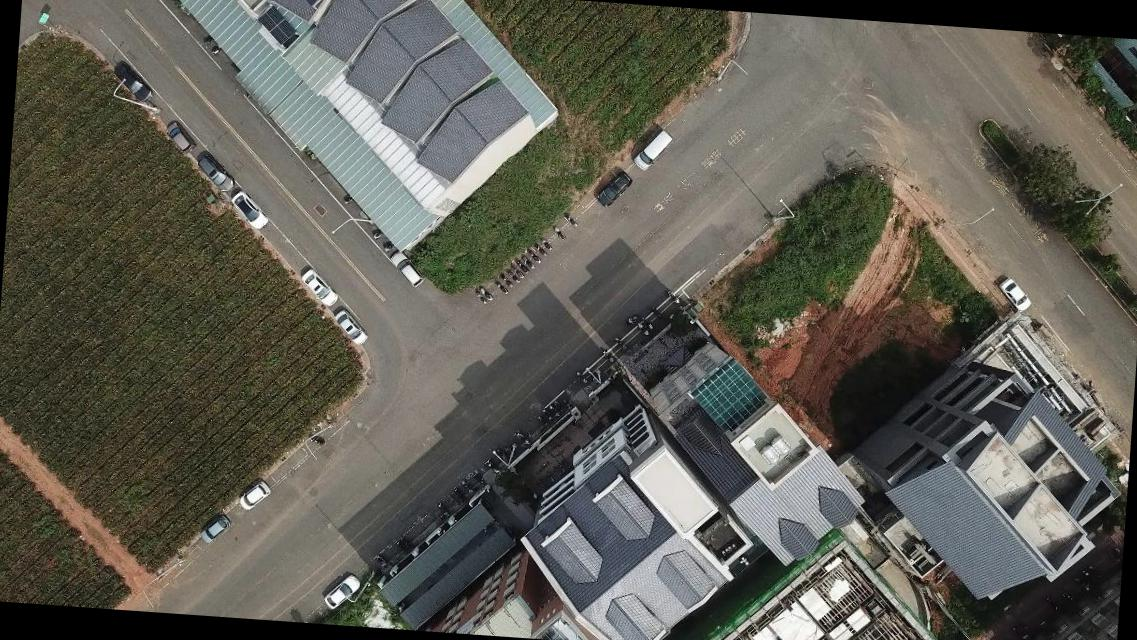vehicle: (632, 127, 672, 173), (112, 61, 154, 102), (228, 188, 268, 230), (300, 270, 340, 306), (196, 155, 234, 192), (595, 170, 631, 209), (324, 573, 360, 610), (334, 309, 369, 347), (389, 250, 423, 288), (998, 276, 1032, 313), (238, 481, 270, 512), (165, 120, 196, 152), (198, 514, 230, 544)
